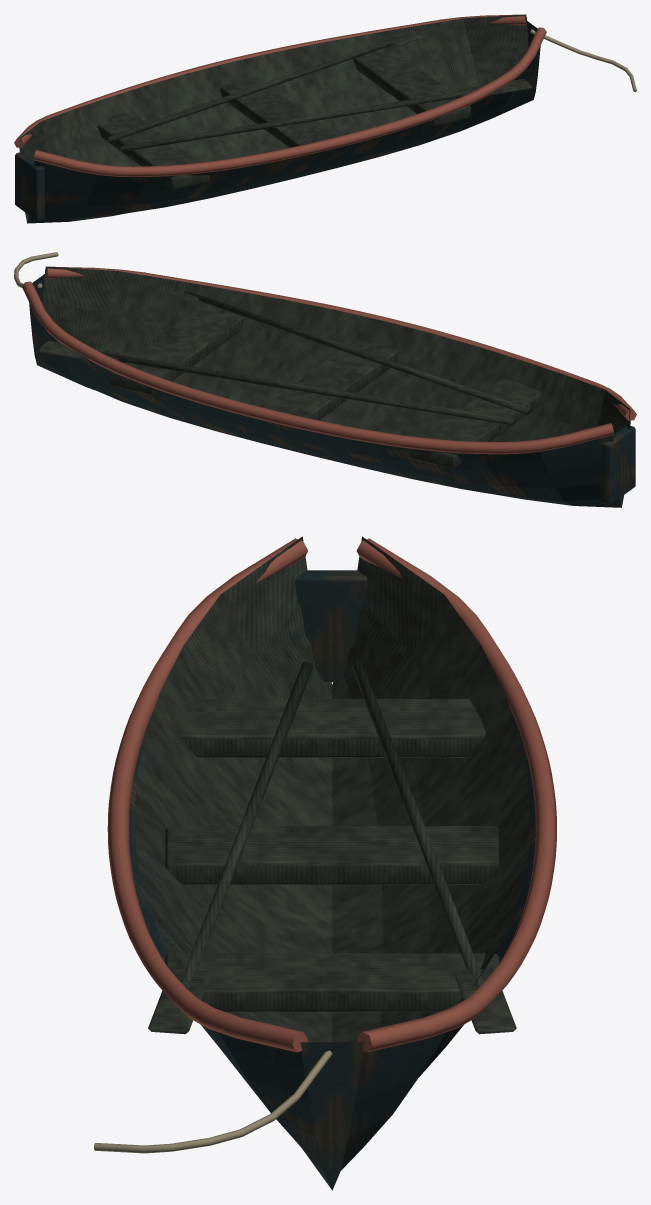
File: moored-dinghy.glb
3 renders of one model, top to bottom at view 1: azimuth 30°, elevation 25°; view 2: azimuth 150°, elevation 25°; view 3: azimuth 270°, elevation 25°, orthographic. The views are drawn at different scales.
Visible parts, largest first — view 1: Authored Salt worn timber grain, Authored Faded harbour paint, Authored red, Authored rope; view 2: Authored Salt worn timber grain, Authored Faded harbour paint, Authored red; view 3: Authored Salt worn timber grain, Authored Faded harbour paint, Authored red, Authored rope.
Boxes of the visible parts, x1,y1,x2,y2 form: Authored Salt worn timber grain: [19, 14, 532, 217]; Authored Faded harbour paint: [15, 21, 540, 223]; Authored red: [14, 14, 546, 176]; Authored rope: [530, 29, 636, 92]; Authored Salt worn timber grain: [38, 266, 630, 501]; Authored Faded harbour paint: [29, 274, 635, 507]; Authored red: [22, 266, 636, 454]; Authored Salt worn timber grain: [134, 536, 530, 1042]; Authored Faded harbour paint: [129, 570, 535, 1190]; Authored red: [107, 538, 556, 1052]; Authored rope: [94, 1050, 332, 1153].
Size of the model in its own units: 3.89 by 0.638 by 1.39.
Materials: 4 (2 with a texture image).
